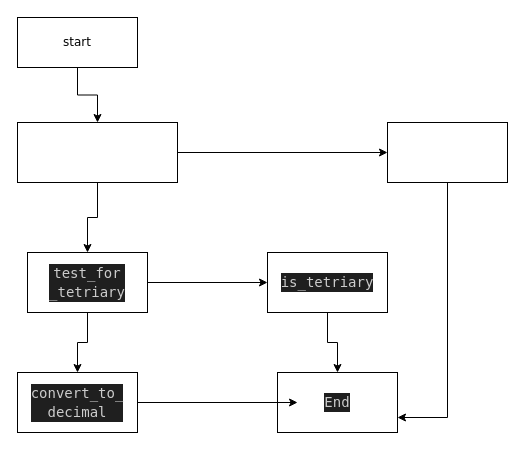
Image size: 525x450. Some labels were removed from this diagram. Here are the shapes that lost their labels. From the top down, the centre of each, then its label:
At (x=97, y=152): "test_for_illegal _characters".
At (x=447, y=152): "has_illegal_ characters".
